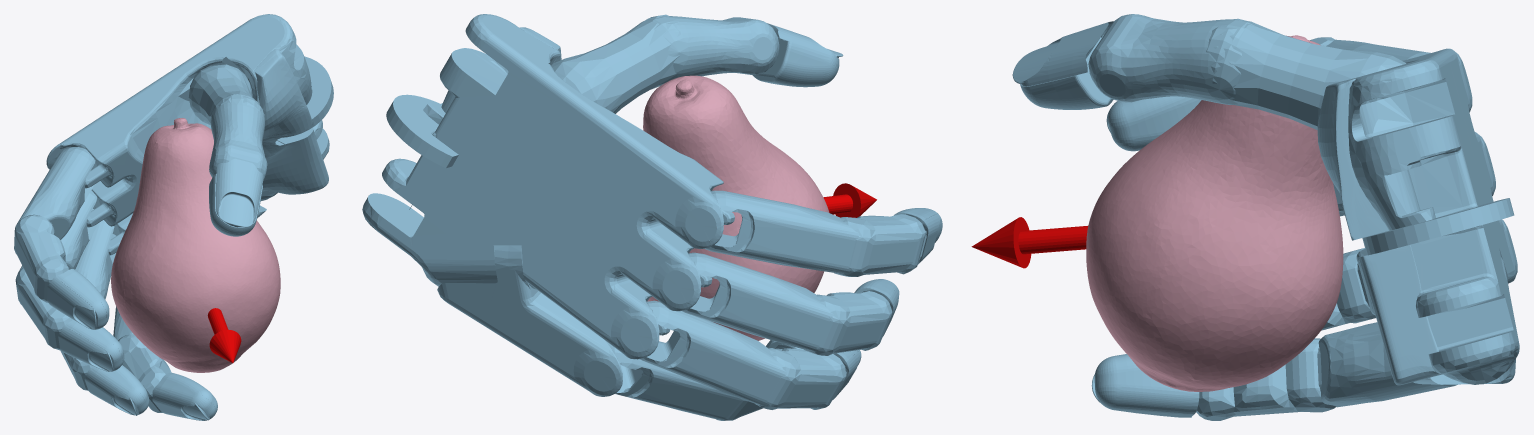
3 views of the same model, side by side, from view 1: azimuth 30°, elevation 25°; view 2: azimuth 150°, elevation 25°; view 3: azimuth 270°, elevation 25° (orthographic). The views are drawn at different scales.
Visible parts, largest first — view 1: world, pear.stl; view 2: world, pear.stl; view 3: world, pear.stl.
Part boxes in pixels (x1,y1,x2,y2): world: [14, 14, 333, 420]; pear.stl: [111, 118, 280, 372]; world: [362, 14, 942, 420]; pear.stl: [643, 75, 829, 340]; world: [971, 14, 1519, 420]; pear.stl: [1086, 35, 1343, 391].
Bounding box in the file's own units: 0.1713 × 0.1377 × 0.14.
